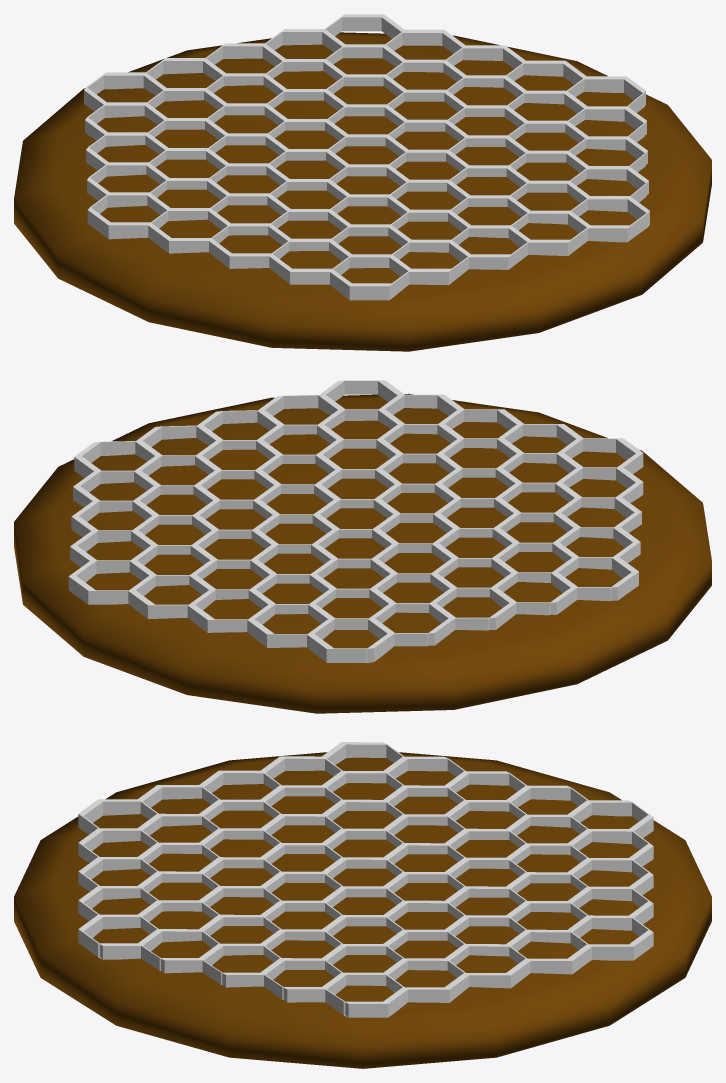
File: board.glb
The picture shows the model from 3 angles, top to bottom: view 1: azimuth 30°, elevation 25°; view 2: azimuth 150°, elevation 25°; view 3: azimuth 270°, elevation 25°; orthographic projection.
Visible parts, largest first — view 1: Cylinder, Honeycomb; view 2: Cylinder, Honeycomb; view 3: Cylinder, Honeycomb.
Boxes of the visible parts, x1,y1,x2,y2 form: Cylinder: (14, 32, 711, 351); Honeycomb: (84, 14, 649, 300); Cylinder: (14, 393, 711, 713); Honeycomb: (68, 380, 643, 662); Cylinder: (14, 752, 711, 1068); Honeycomb: (78, 742, 653, 1017).
Bounding box in the file's own units: 0.3 × 0.0242 × 0.3.
